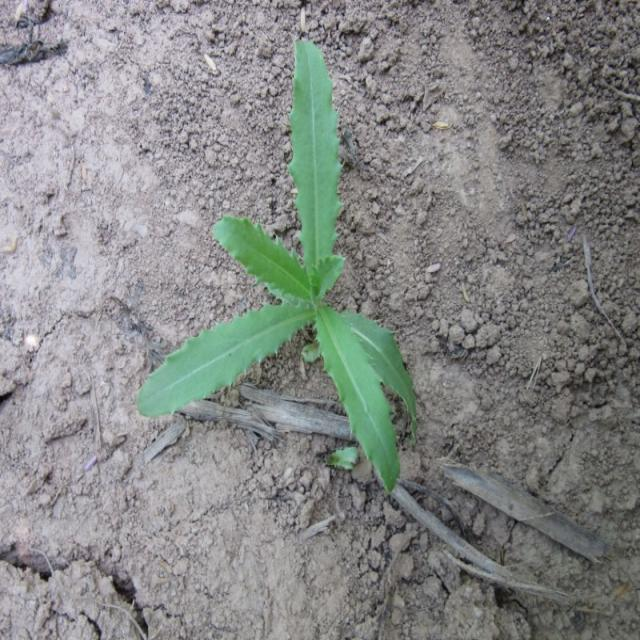cs: (136, 36, 418, 498)
